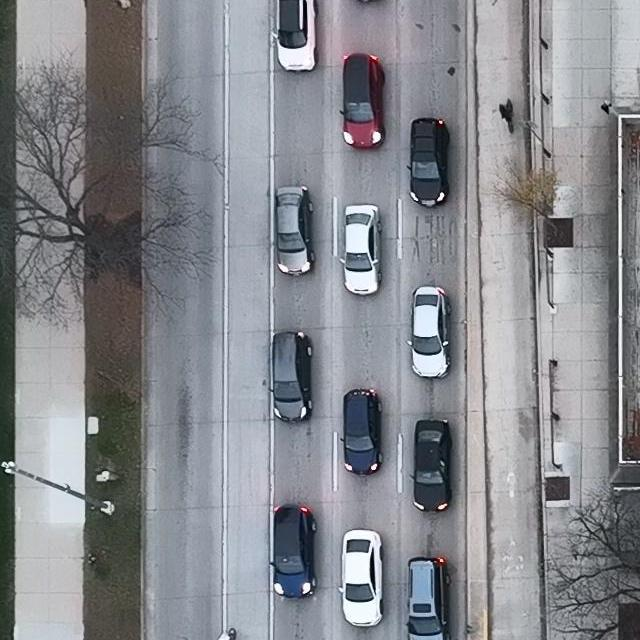car: (337, 529, 384, 627), (339, 53, 386, 150), (270, 504, 317, 598), (406, 285, 452, 379), (268, 331, 313, 424), (339, 202, 383, 297), (407, 118, 451, 210), (409, 419, 453, 511), (272, 186, 316, 276), (340, 387, 383, 475), (406, 556, 451, 640), (271, 0, 318, 73)
